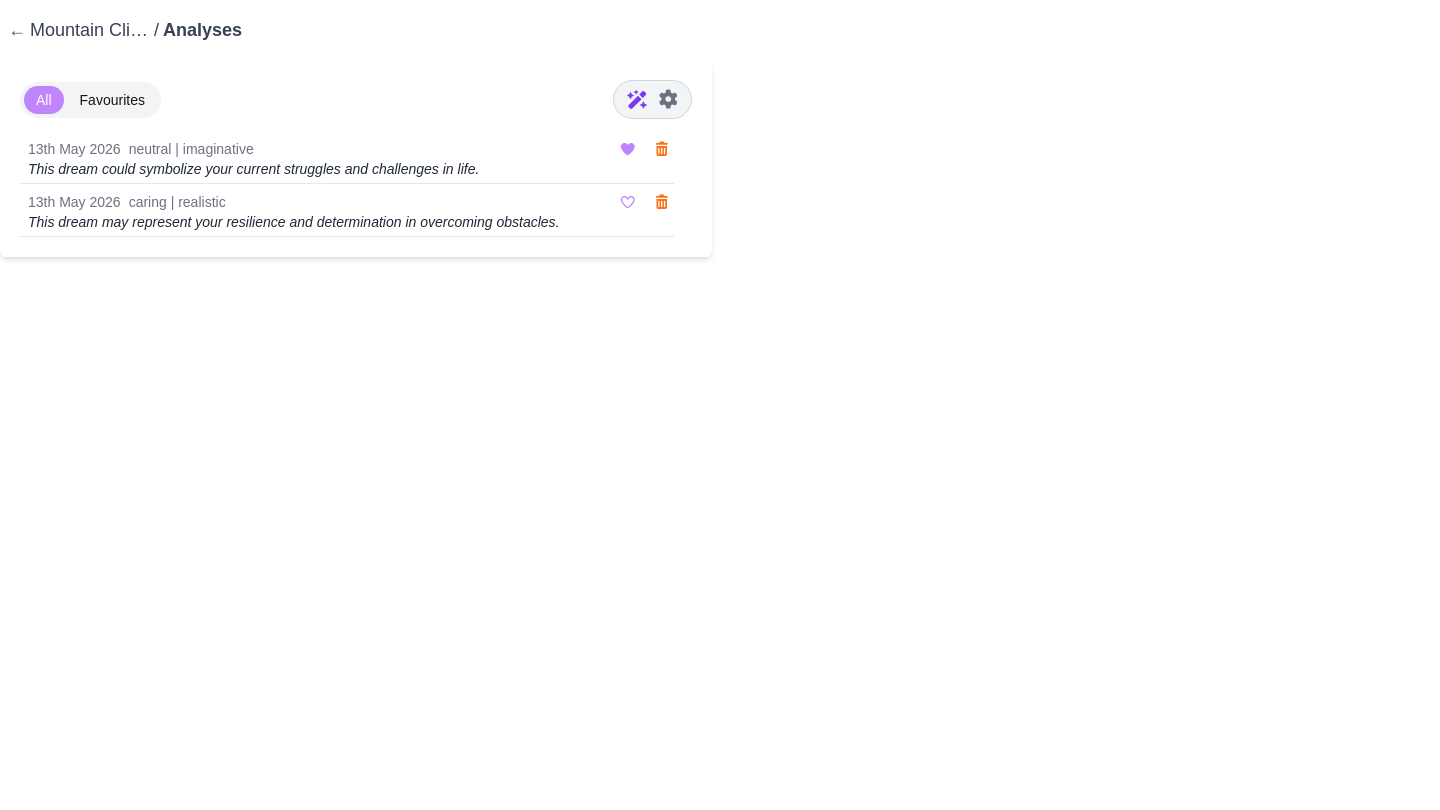
Test case: Generate new analysis modal should: › Close when discard button is clicked.
Click the button named "Generate new AI analysis": x=637, y=100 626,86 -> 648,114
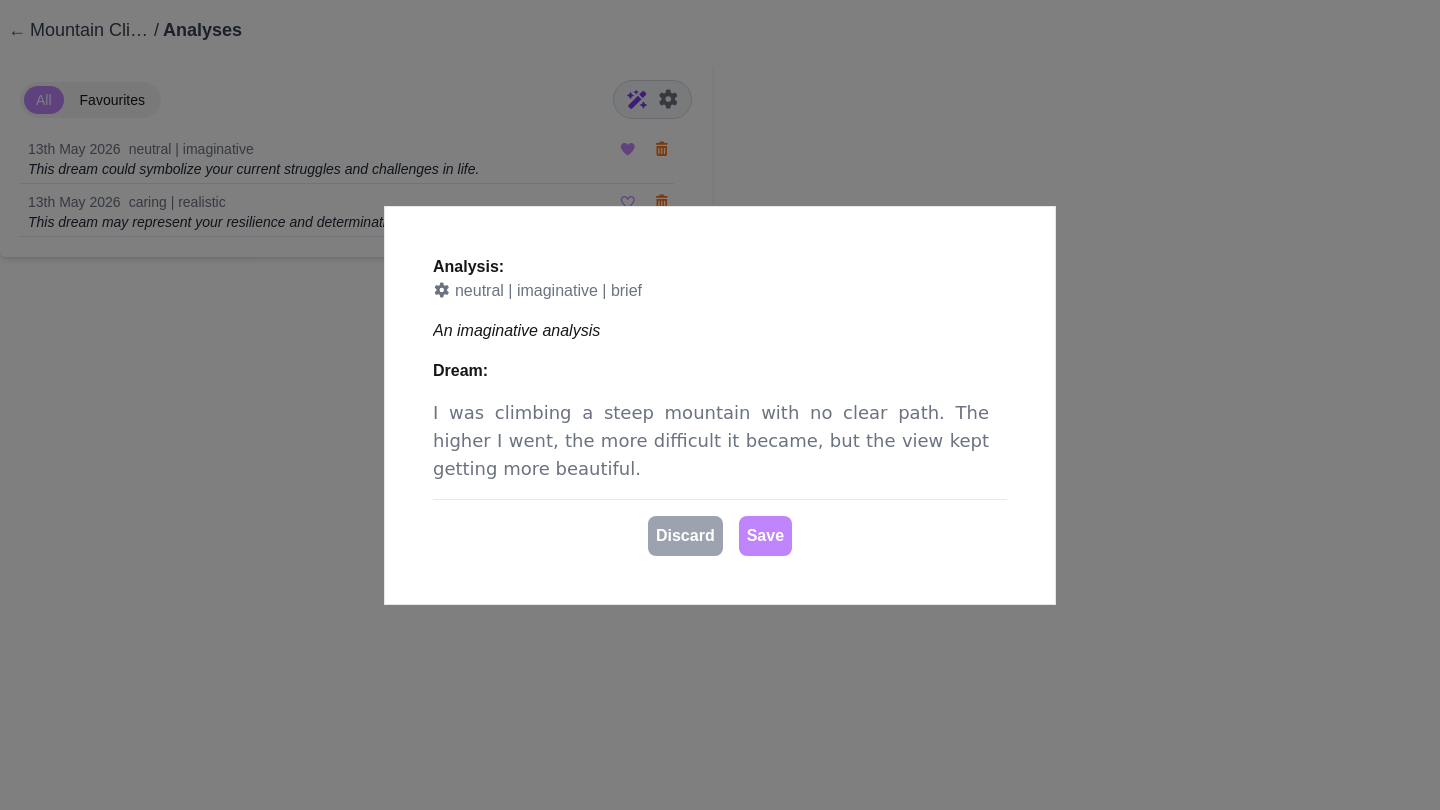
Click the button "Discard": x=685, y=536 648,516 -> 723,556
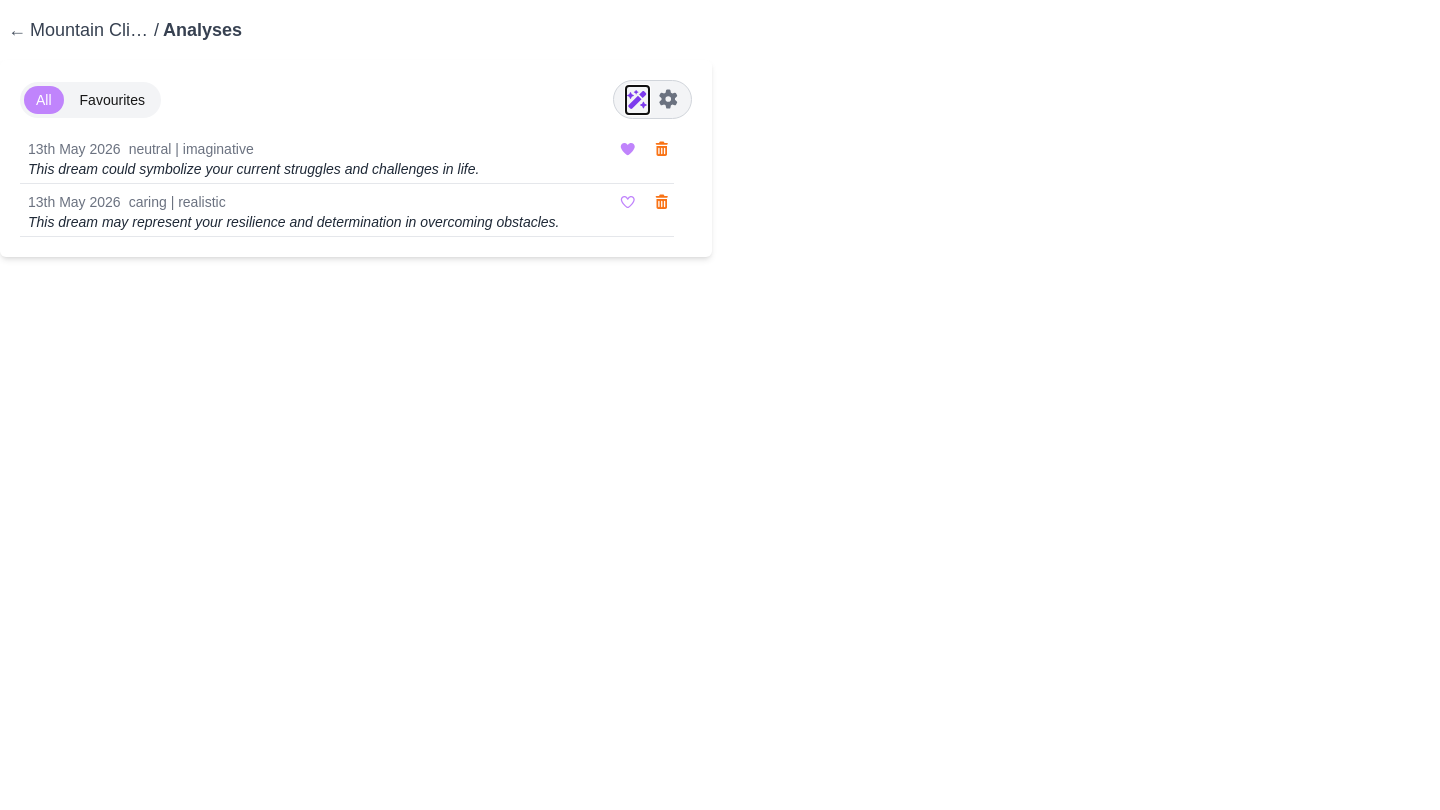
Result: the text "An imaginative analysis" is gone
